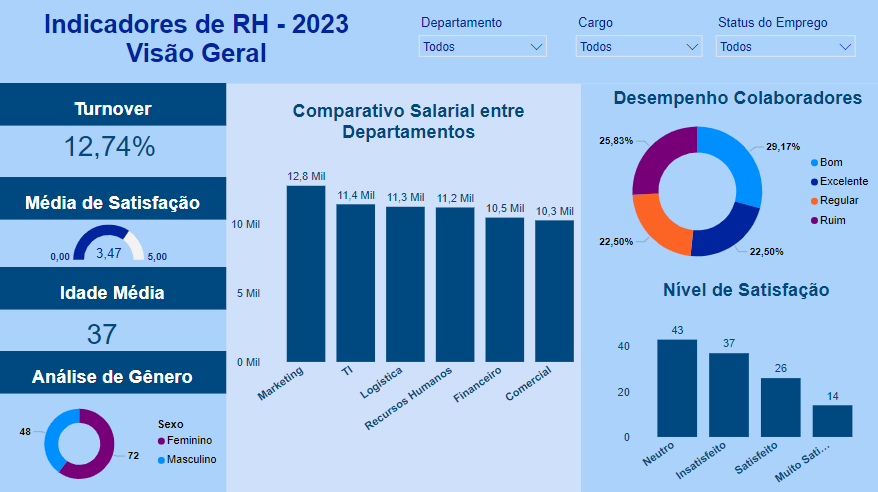

This screenshot's page, from the dashboard's own definition file:
{"tool":"powerbi","page":{"name":"VisãoGeral","canvas":[1280,720],"ordinal":0},"visuals":[{"type":"shape","box":[847.6,123,432.4,595.8],"z":0},{"type":"shape","box":[0,319,332.5,78.8],"z":1000},{"type":"donutChart","fields":{"Y":["Medidas.Percentual Bom","Medidas.Percentual Excelente","Medidas.Percentual Regular","Medidas.Percentual Ruim"]},"box":[847.6,140.3,432.4,280.6],"z":2000},{"type":"shape","box":[0,574.3,332.5,145.1],"z":3000},{"type":"shape","box":[0,182.6,332.5,80.7],"z":4000},{"type":"shape","box":[0,0,1280,123],"z":5000},{"type":"card","fields":{"Values":["Medidas.Turnover Geral %"]},"box":[80.7,188.3,163.4,50],"z":6000},{"type":"textbox","box":[872.6,123,407.4,48],"z":7000},{"type":"clusteredColumnChart","fields":{"Category":["base_simulada_rh.FaixaSatisfacao"],"Y":["CountNonNull(base_simulada_rh.Satisfação no Trabalho)"]},"box":[895.6,457.4,384.4,263.3],"z":8000},{"type":"textbox","box":[918.7,403.6,338.3,48],"z":9000},{"type":"textbox","box":[0,122.4,332.5,62],"z":10000},{"type":"slicer","fields":{"Values":["base_simulada_rh.Departamento"]},"box":[601.6,19.2,205.6,67.3],"z":11000},{"type":"slicer","fields":{"Values":["base_simulada_rh.Cargo"]},"box":[830.3,19.2,203.7,67.3],"z":12000},{"type":"slicer","fields":{"Values":["base_simulada_rh.Status do Emprego"]},"box":[1034,19.2,222.9,67.3],"z":13000},{"type":"shape","box":[0,451.7,332.5,78.8],"z":14000},{"type":"textbox","box":[0,10.1,576.9,102.7],"z":15000},{"type":"textbox","box":[0,390.2,332.5,61.5],"z":16000},{"type":"card","fields":{"Values":["Medidas.IdadeMedia"]},"box":[80.7,457.4,142.2,57.7],"z":17000},{"type":"donutChart","fields":{"Category":["base_simulada_rh.Sexo"],"Y":["CountNonNull(base_simulada_rh.ID)"]},"box":[0,574.3,332.5,145.1],"z":18000},{"type":"textbox","box":[0,512.3,332.5,62],"z":19000},{"type":"clusteredColumnChart","fields":{"Category":["base_simulada_rh.Departamento"],"Y":["Avg(base_simulada_rh.Salário)"]},"box":[332.5,232.6,540.1,415.1],"z":20000},{"type":"textbox","box":[0,259.5,332.5,61.5],"z":21000},{"type":"textbox","box":[386.3,142.2,420.9,92.3],"z":22000},{"type":"gauge","fields":{"Y":["Medidas Satisfação.Média Satisfação"],"MaxValue":["select"],"MinValue":["select1"]},"box":[57.4,323.4,208.5,66.5],"z":23000}]}

Visuals, with their boxes in screenshot pixels (x1, y1, x2, y2), scaled from the page's 1280x720 canvas onto the 878x492 screenshot:
shape: [581,84,877,491]
shape: [0,218,228,272]
donutChart - Medidas.Percentual Bom x Medidas.Percentual Excelente: [581,96,877,288]
shape: [0,392,228,491]
shape: [0,125,228,180]
shape: [0,0,877,84]
card - Medidas.Turnover Geral %: [55,129,167,163]
textbox: [599,84,877,117]
clusteredColumnChart - base_simulada_rh.FaixaSatisfacao x CountNonNull(base_simulada_rh.Satisfação no Trabalho): [614,313,877,491]
textbox: [630,276,862,309]
textbox: [0,84,228,126]
slicer - base_simulada_rh.Departamento: [413,13,554,59]
slicer - base_simulada_rh.Cargo: [570,13,709,59]
slicer - base_simulada_rh.Status do Emprego: [709,13,862,59]
shape: [0,309,228,363]
textbox: [0,7,396,77]
textbox: [0,267,228,309]
card - Medidas.IdadeMedia: [55,313,153,352]
donutChart - base_simulada_rh.Sexo x CountNonNull(base_simulada_rh.ID): [0,392,228,491]
textbox: [0,350,228,392]
clusteredColumnChart - base_simulada_rh.Departamento x Avg(base_simulada_rh.Salário): [228,159,599,443]
textbox: [0,177,228,219]
textbox: [265,97,554,160]
gauge - Medidas Satisfação.Média Satisfação x select: [39,221,182,266]
